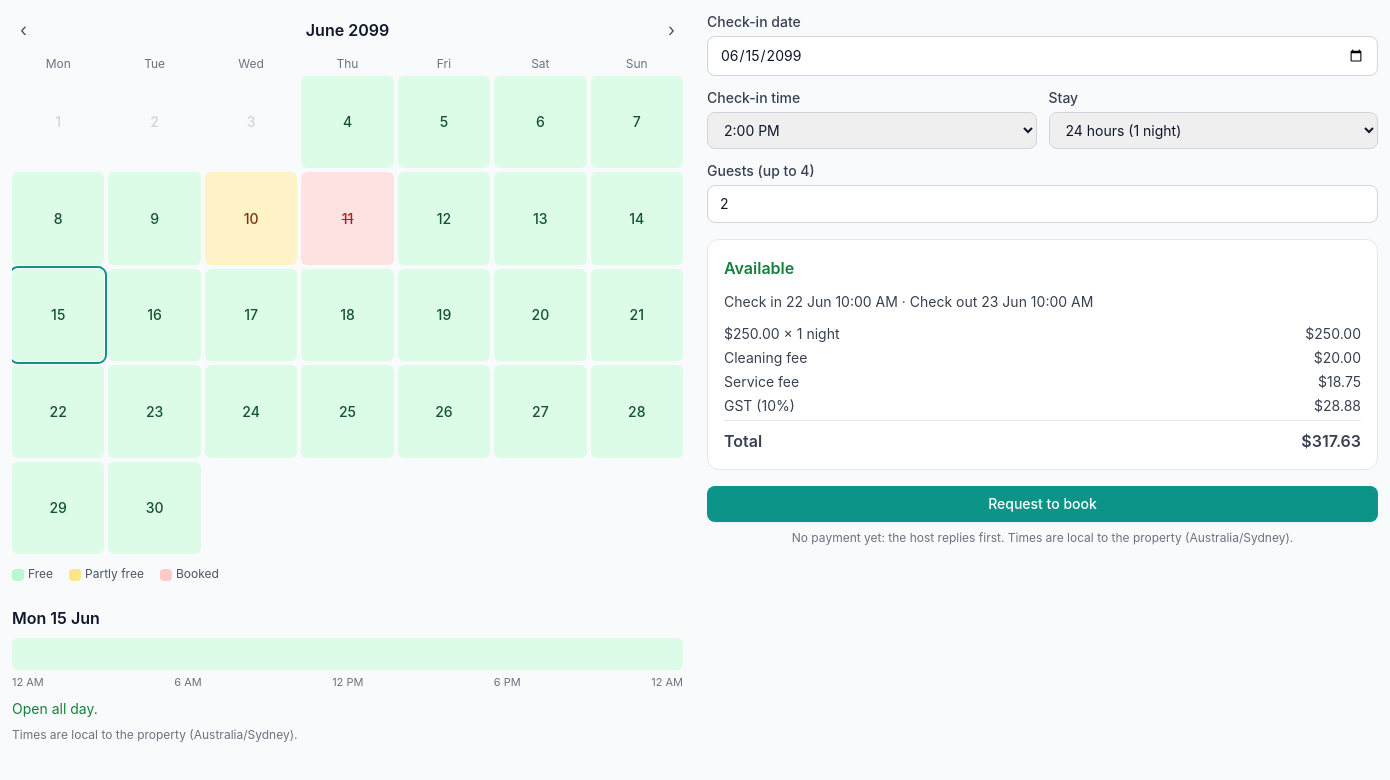
AvailabilityPanel › requesting to book › shows the server's reason when the dates were just taken and returns to the form
The width and height of the screenshot is (1390, 780).
What coordinates should you click on to do the following:
click the button "Request to book"
I would click on:
 (1042, 504)
Its box is [707,486,1378,522].
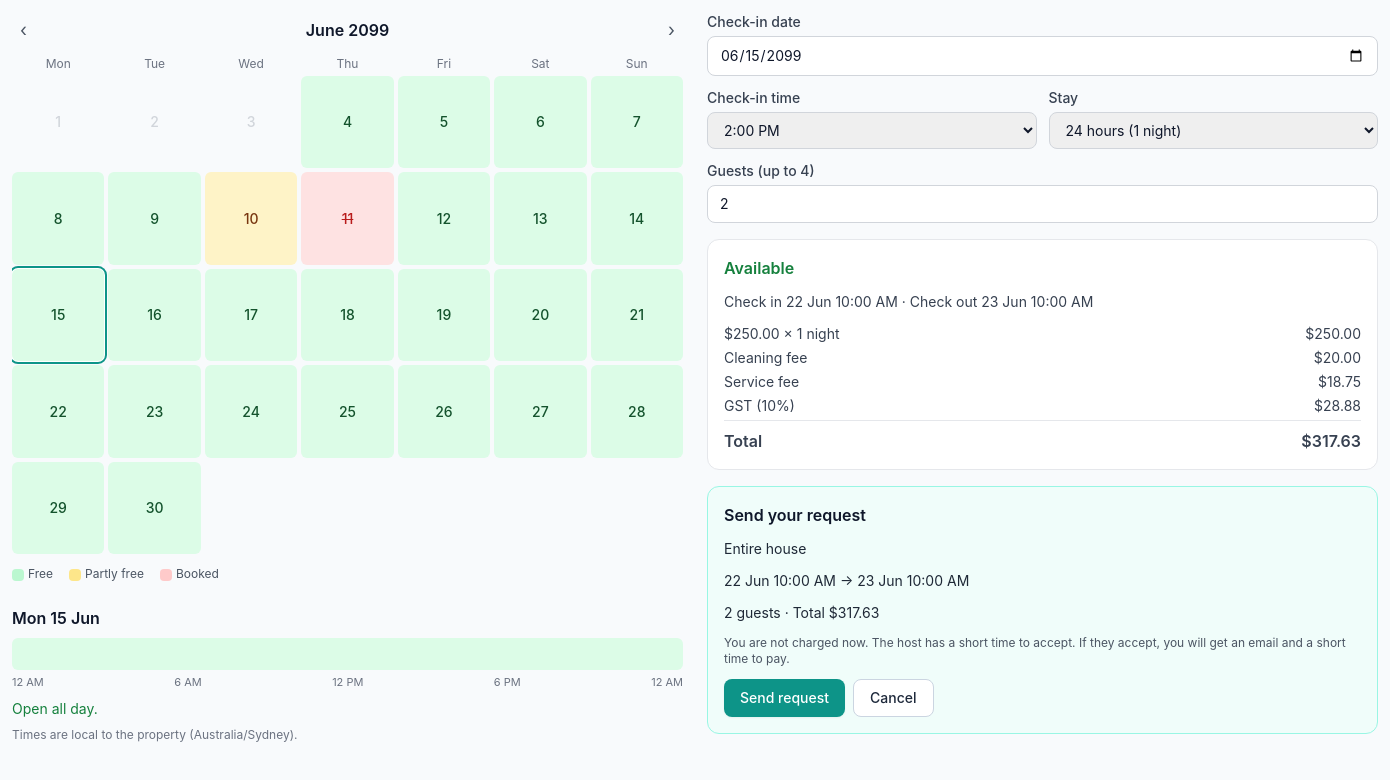
What coordinates should you click on to do the following:
click the button "Send request"
I would click on:
 (785, 698)
Its box is [724,679,845,717].
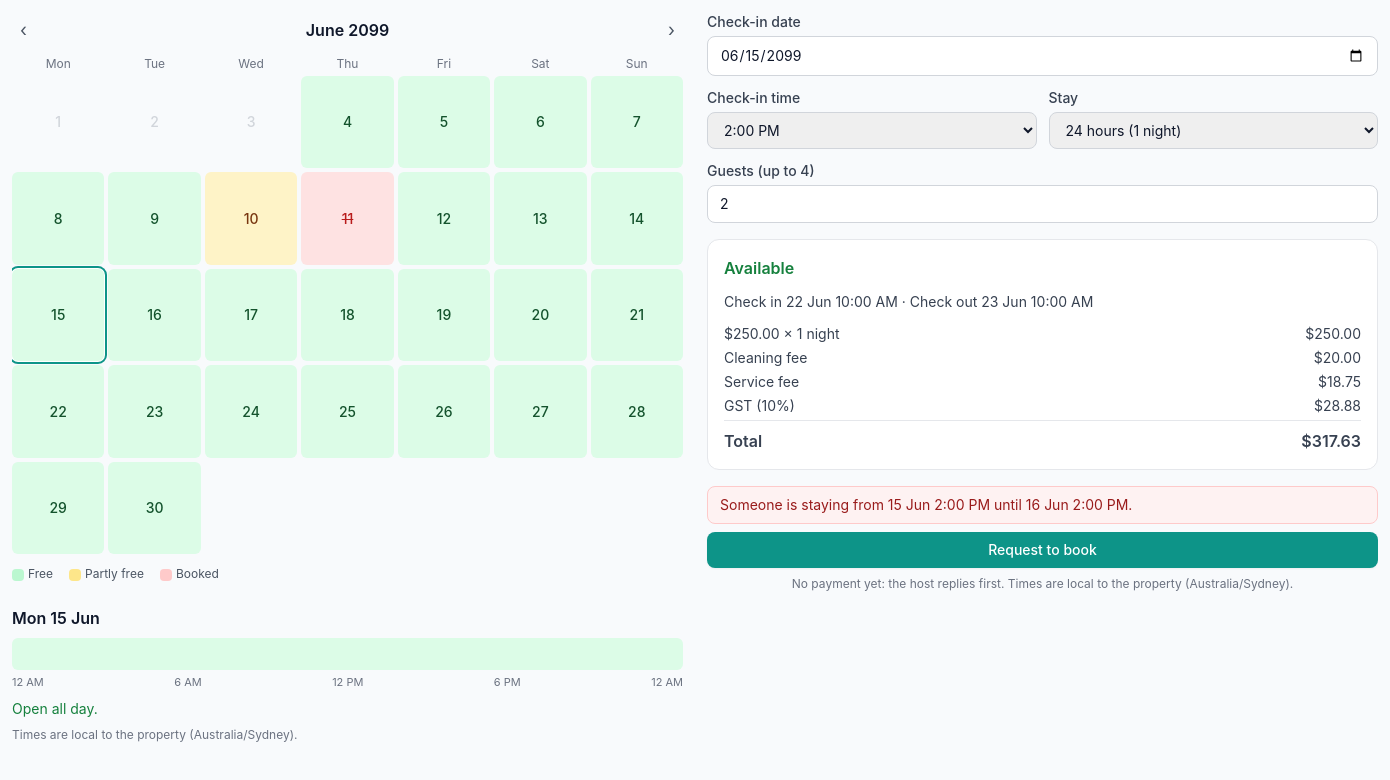
Expected: the text "Someone is staying from 15 Jun 2:00 PM until 16 Jun 2:00 PM." is shown, [707,486,1378,524]
Expected: the button "Request to book" is shown, [707,532,1378,568]
